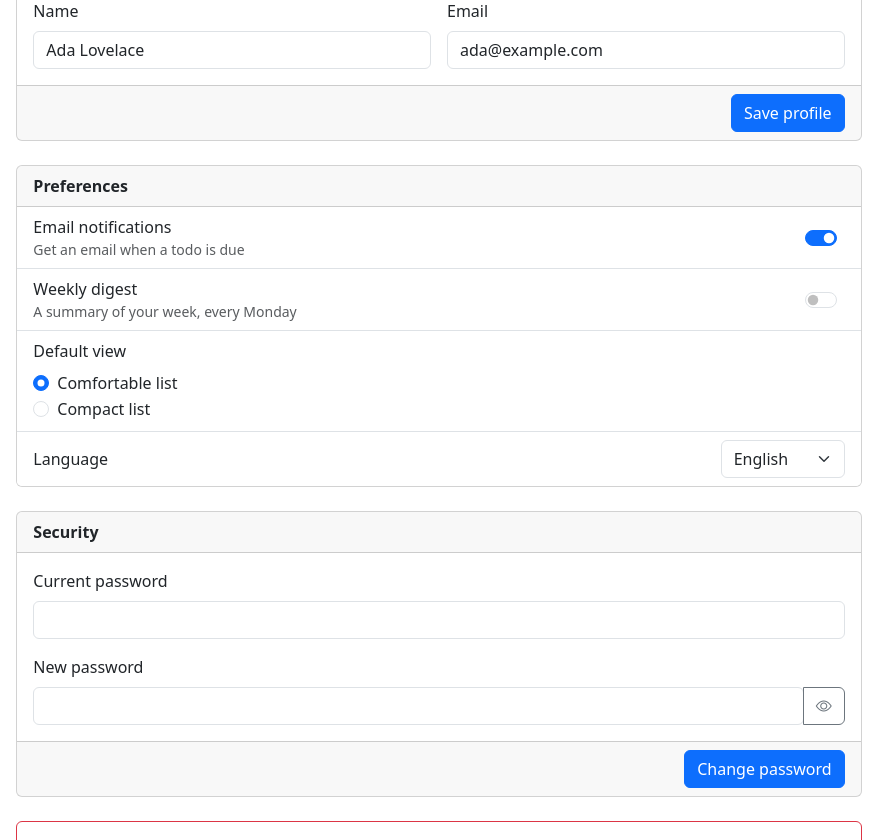
Test: should validate and reveal the new password
The image size is (879, 840).
(page scrolled)
Type "short" into the password field labelled "New password".
click(418, 706); type("short")  # box [33,687,804,725]
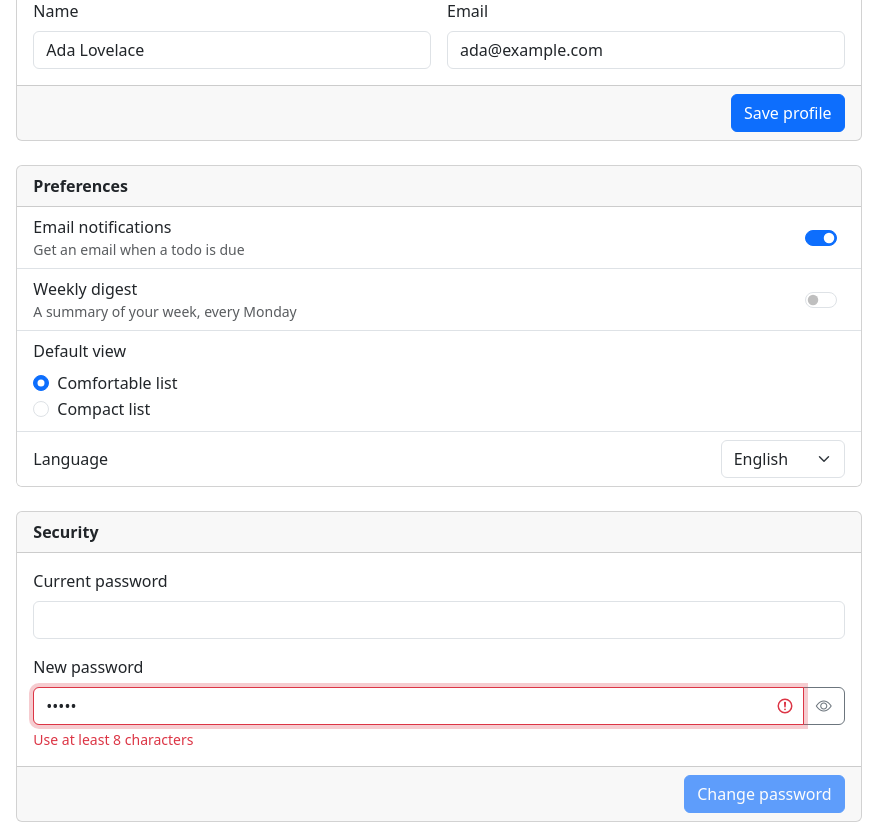
expect the text "Use at least 8 characters" is shown: met, box [33,730,194,749]
expect the button "Change password" is disabled: met, box [684,775,845,813]
Click the button named "Show password".
click(824, 706)  # box [803,687,845,725]
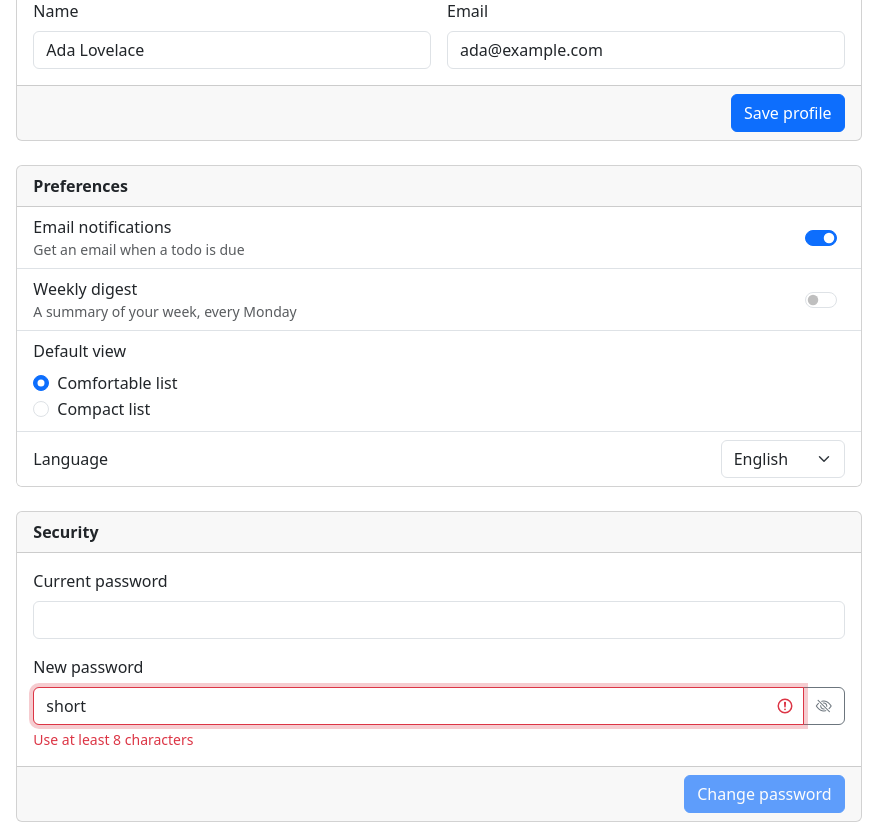
expect the field labelled "New password" shows its text: met, box [33,687,804,725]
